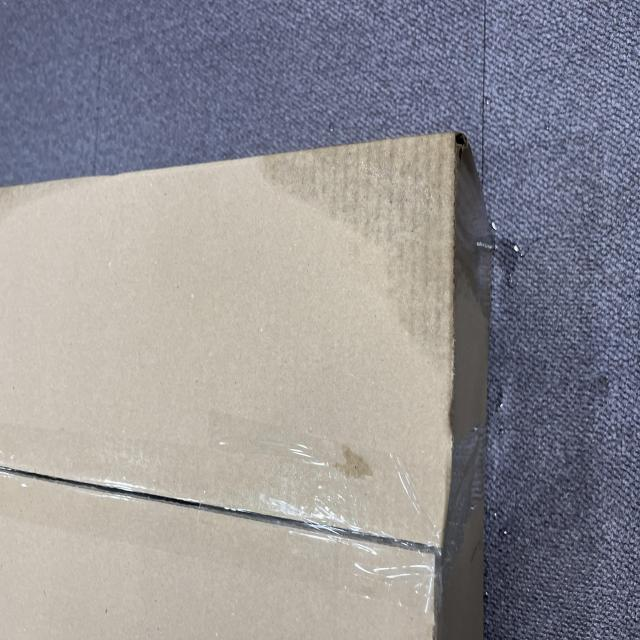wet: (225, 347, 380, 627)
